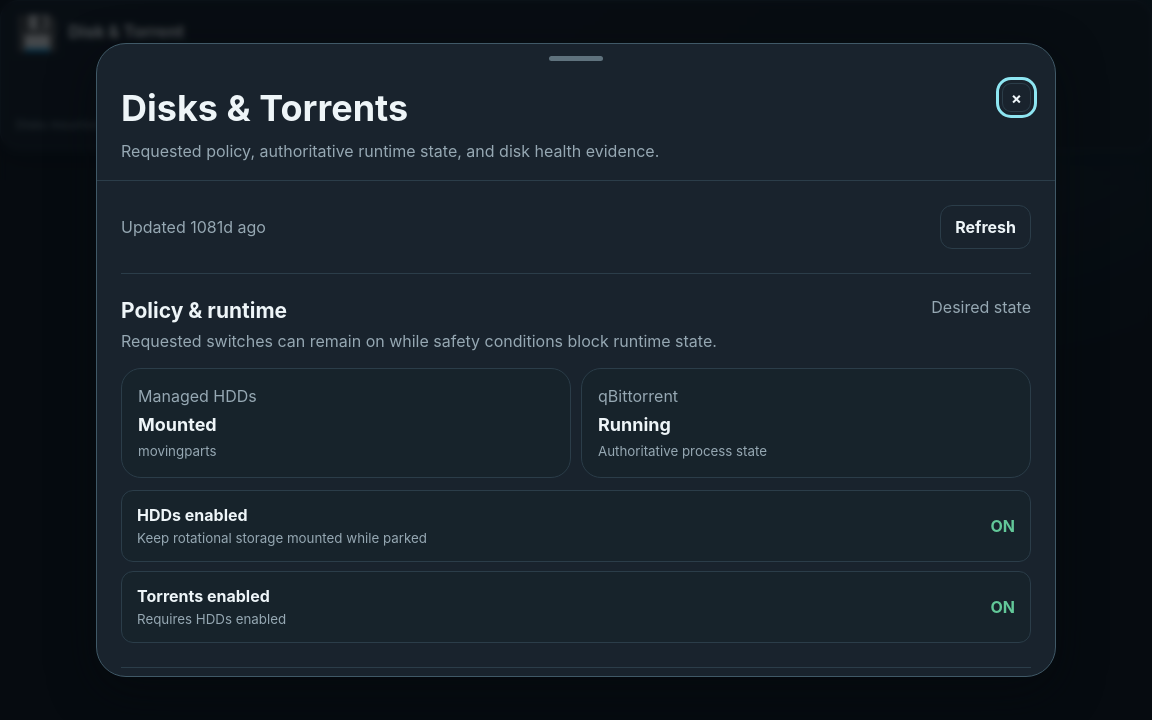
Test: storage feature › enables disk actions, blocks USB reset for a mounted disk, and wires the policy toggle
expect the button "Torrents enabled" is enabled: met, box [121, 571, 1031, 643]
What coordinates should you click on to do the following:
click the button "HDDs enabled"
I would click on:
 (192, 515)
Its box is [121, 490, 1031, 562].
(page scrolled)
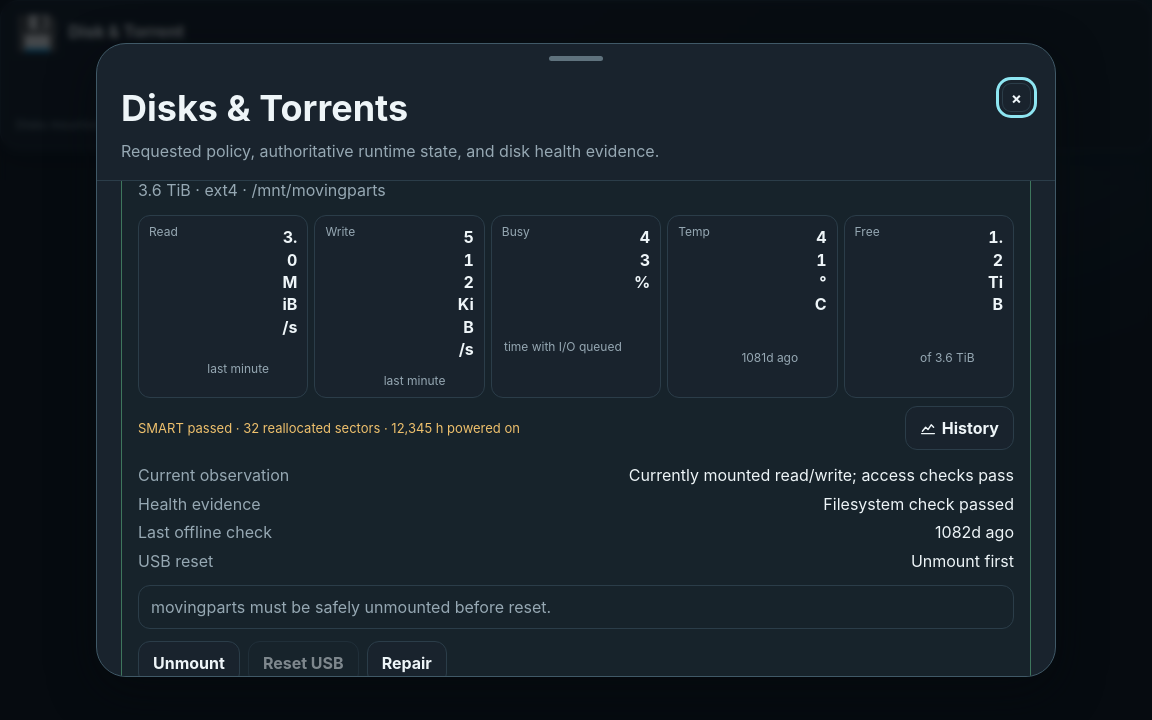
expect the text "3.0 MiB/s" is shown: met, box [281, 226, 297, 349]
expect the text "512 KiB/s" is shown: met, box [457, 226, 474, 360]
expect the text "43%" is shown: met, box [634, 226, 650, 327]
